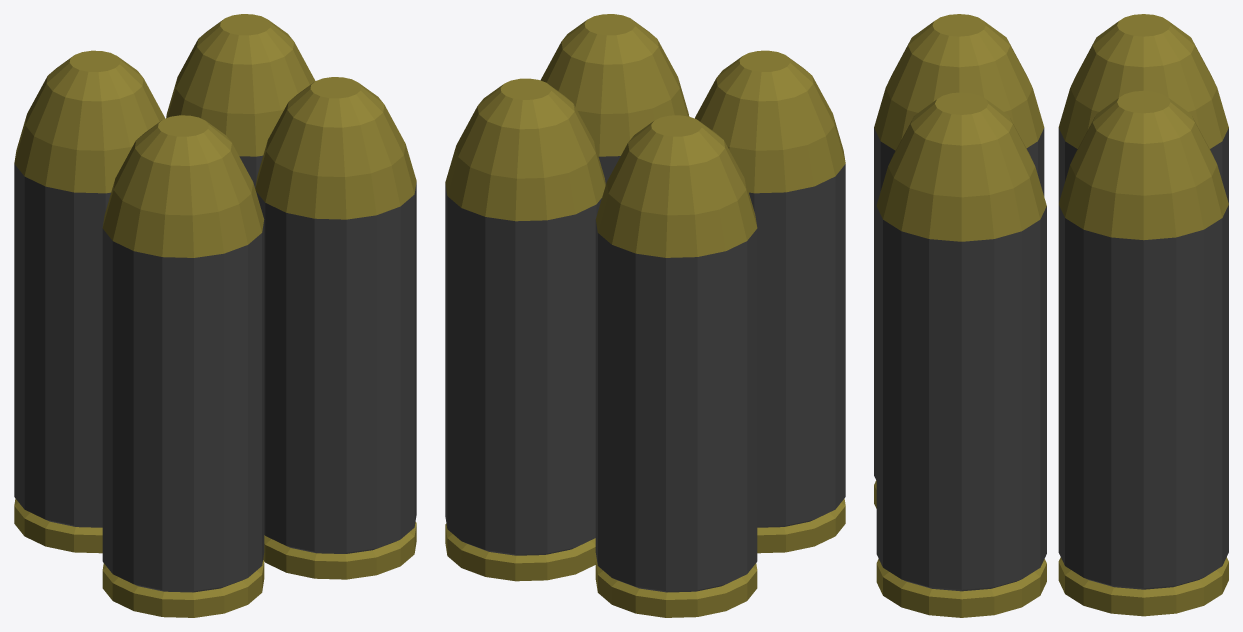
The model's file is Secondary.fbx.
3 views of the same model, side by side, from view 1: azimuth 30°, elevation 25°; view 2: azimuth 150°, elevation 25°; view 3: azimuth 270°, elevation 25° (orthographic). The views are drawn at different scales.
Visible parts, largest first — view 1: Secondary Bullets; view 2: Secondary Bullets; view 3: Secondary Bullets.
Part boxes in pixels (left/top/right/bottom): Secondary Bullets: left=14, top=14, right=416, bottom=617; Secondary Bullets: left=445, top=14, right=845, bottom=617; Secondary Bullets: left=874, top=14, right=1228, bottom=617.
Size of the model in its own units: 28.92 by 42.91 by 28.85.
